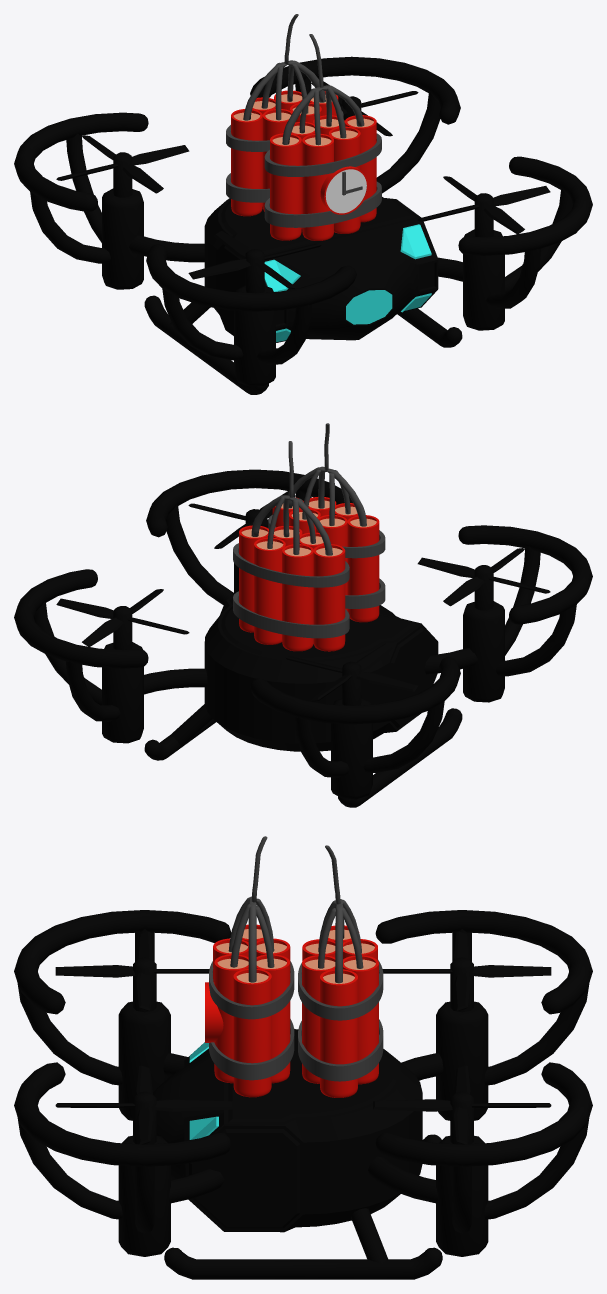
File: ドローン1127_修正.fbx
The picture shows the model from 3 angles, top to bottom: view 1: azimuth 30°, elevation 25°; view 2: azimuth 150°, elevation 25°; view 3: azimuth 270°, elevation 25°; orthographic projection. The views are drawn at different scales.
Parts seen in each view (by area): view 1: 本体; view 2: 本体; view 3: 本体.
Part boxes in pixels (x1,y1,x2,y2): 本体: [14, 14, 592, 394]; 本体: [14, 423, 592, 807]; 本体: [14, 836, 592, 1279].
Size of the model in its own units: 722 by 522 by 722.
